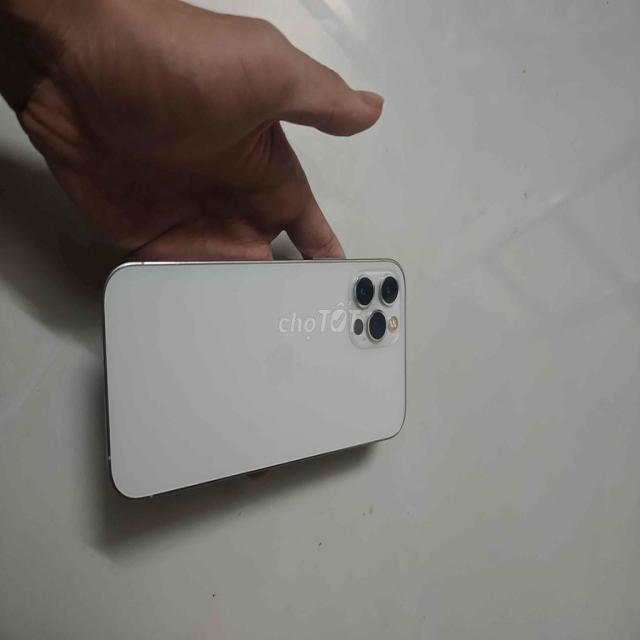gen_12_13: (99, 245, 411, 514)
